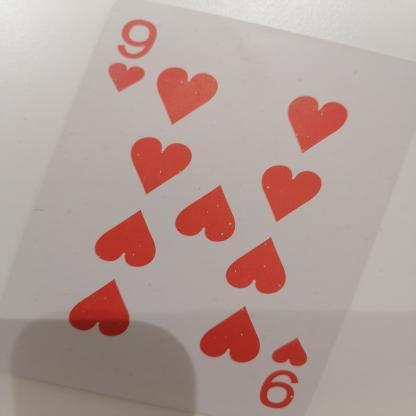9H: (98, 9, 183, 96), (254, 327, 331, 413)
